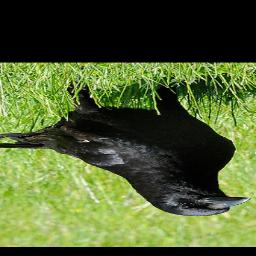Crow: (0, 80, 254, 218)
